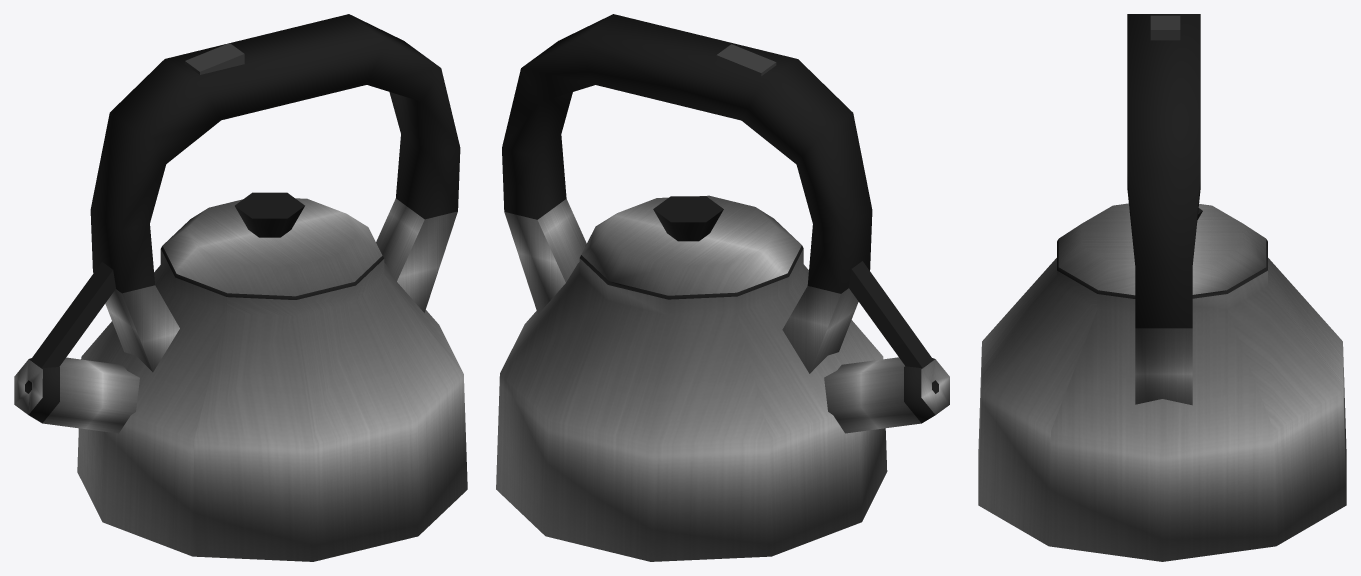
The model's file is Tea_Kettle.FBX.
The picture shows the model from 3 angles, left to right: view 1: azimuth 30°, elevation 25°; view 2: azimuth 150°, elevation 25°; view 3: azimuth 270°, elevation 25°; orthographic projection.
Visible parts, largest first — view 1: Tea_Kettle; view 2: Tea_Kettle; view 3: Tea_Kettle.
Boxes of the visible parts, x1,y1,x2,y2 form: Tea_Kettle: [14, 14, 467, 561]; Tea_Kettle: [496, 14, 949, 561]; Tea_Kettle: [978, 14, 1346, 561].
Size of the model in its own units: 85.63 by 84.61 by 65.13.
